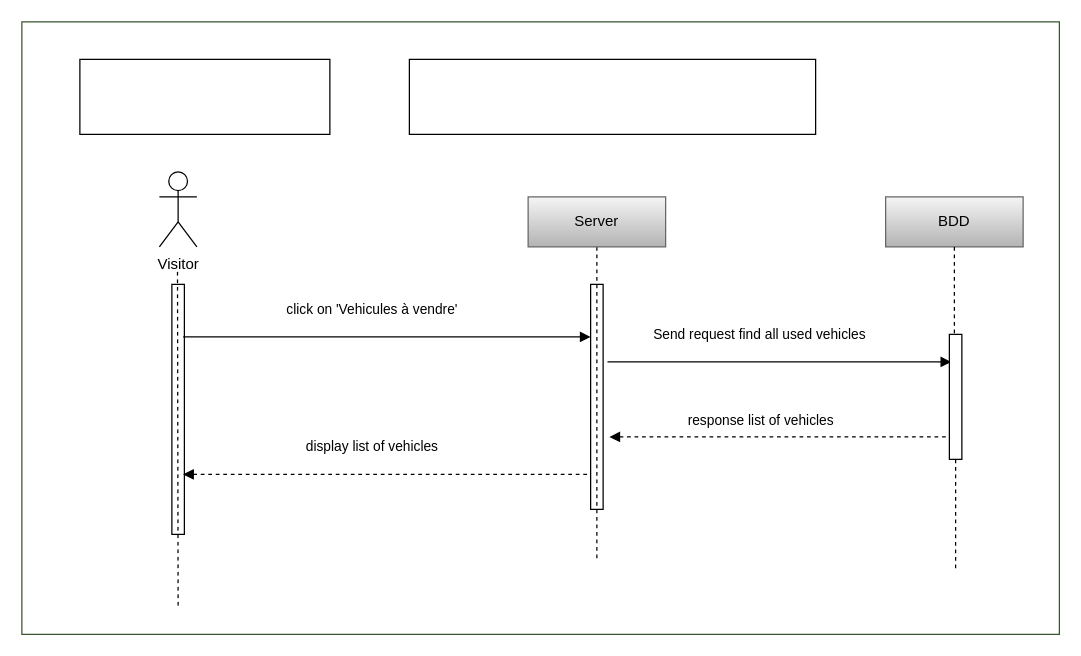
The diagram is 1081 pixels wide and 656 high, and some of its shapes have lost their labels. The box of each missing label's shape, as (x1, y1, x2, y2) in pixels:
Discover the list of used vehicles: (408, 58, 816, 134)
sequence diagram: (79, 58, 330, 134)
